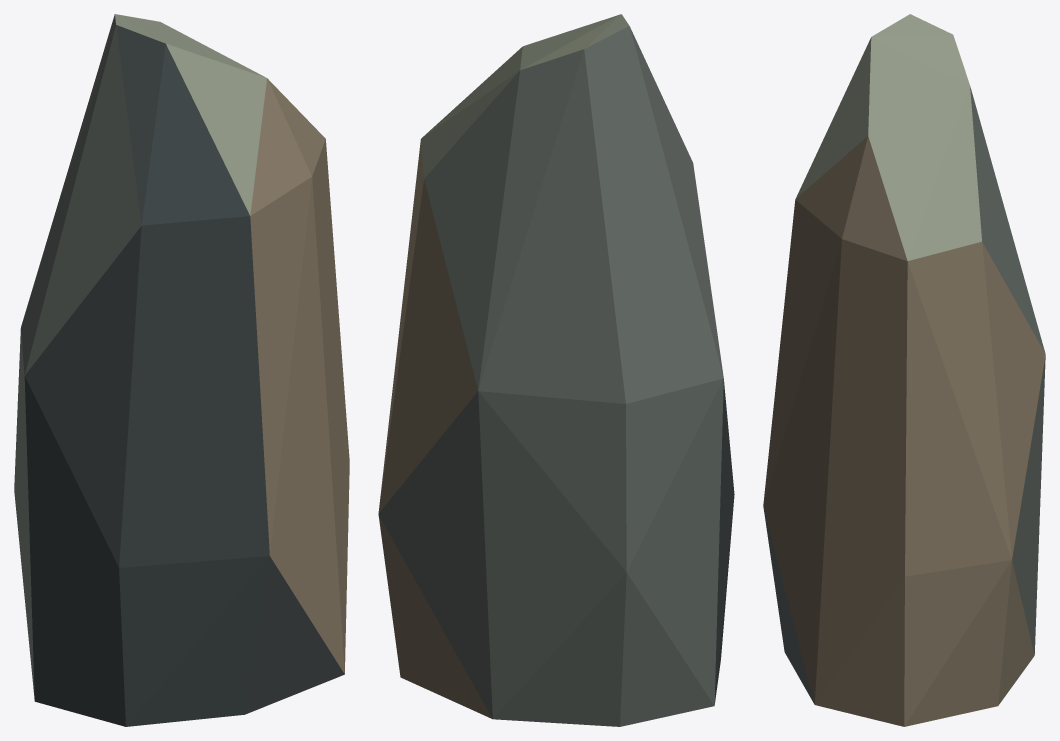
File: TW_ROCK_UPRIGHT_A_LOD1.glb
The picture shows the model from 3 angles, left to right: view 1: azimuth 30°, elevation 25°; view 2: azimuth 150°, elevation 25°; view 3: azimuth 270°, elevation 25°; orthographic projection. The views are drawn at different scales.
Parts seen in each view (by area): view 1: TW_ROCK_UPRIGHT_A_LOD1; view 2: TW_ROCK_UPRIGHT_A_LOD1; view 3: TW_ROCK_UPRIGHT_A_LOD1.
Part boxes in pixels (<box>): TW_ROCK_UPRIGHT_A_LOD1: <box>14,14,349,726</box>; TW_ROCK_UPRIGHT_A_LOD1: <box>378,14,734,726</box>; TW_ROCK_UPRIGHT_A_LOD1: <box>763,14,1045,726</box>.
Bounding box in the file's own units: 0.8 × 1.55 × 0.65.
Materials: 1 (1 with a texture image).
